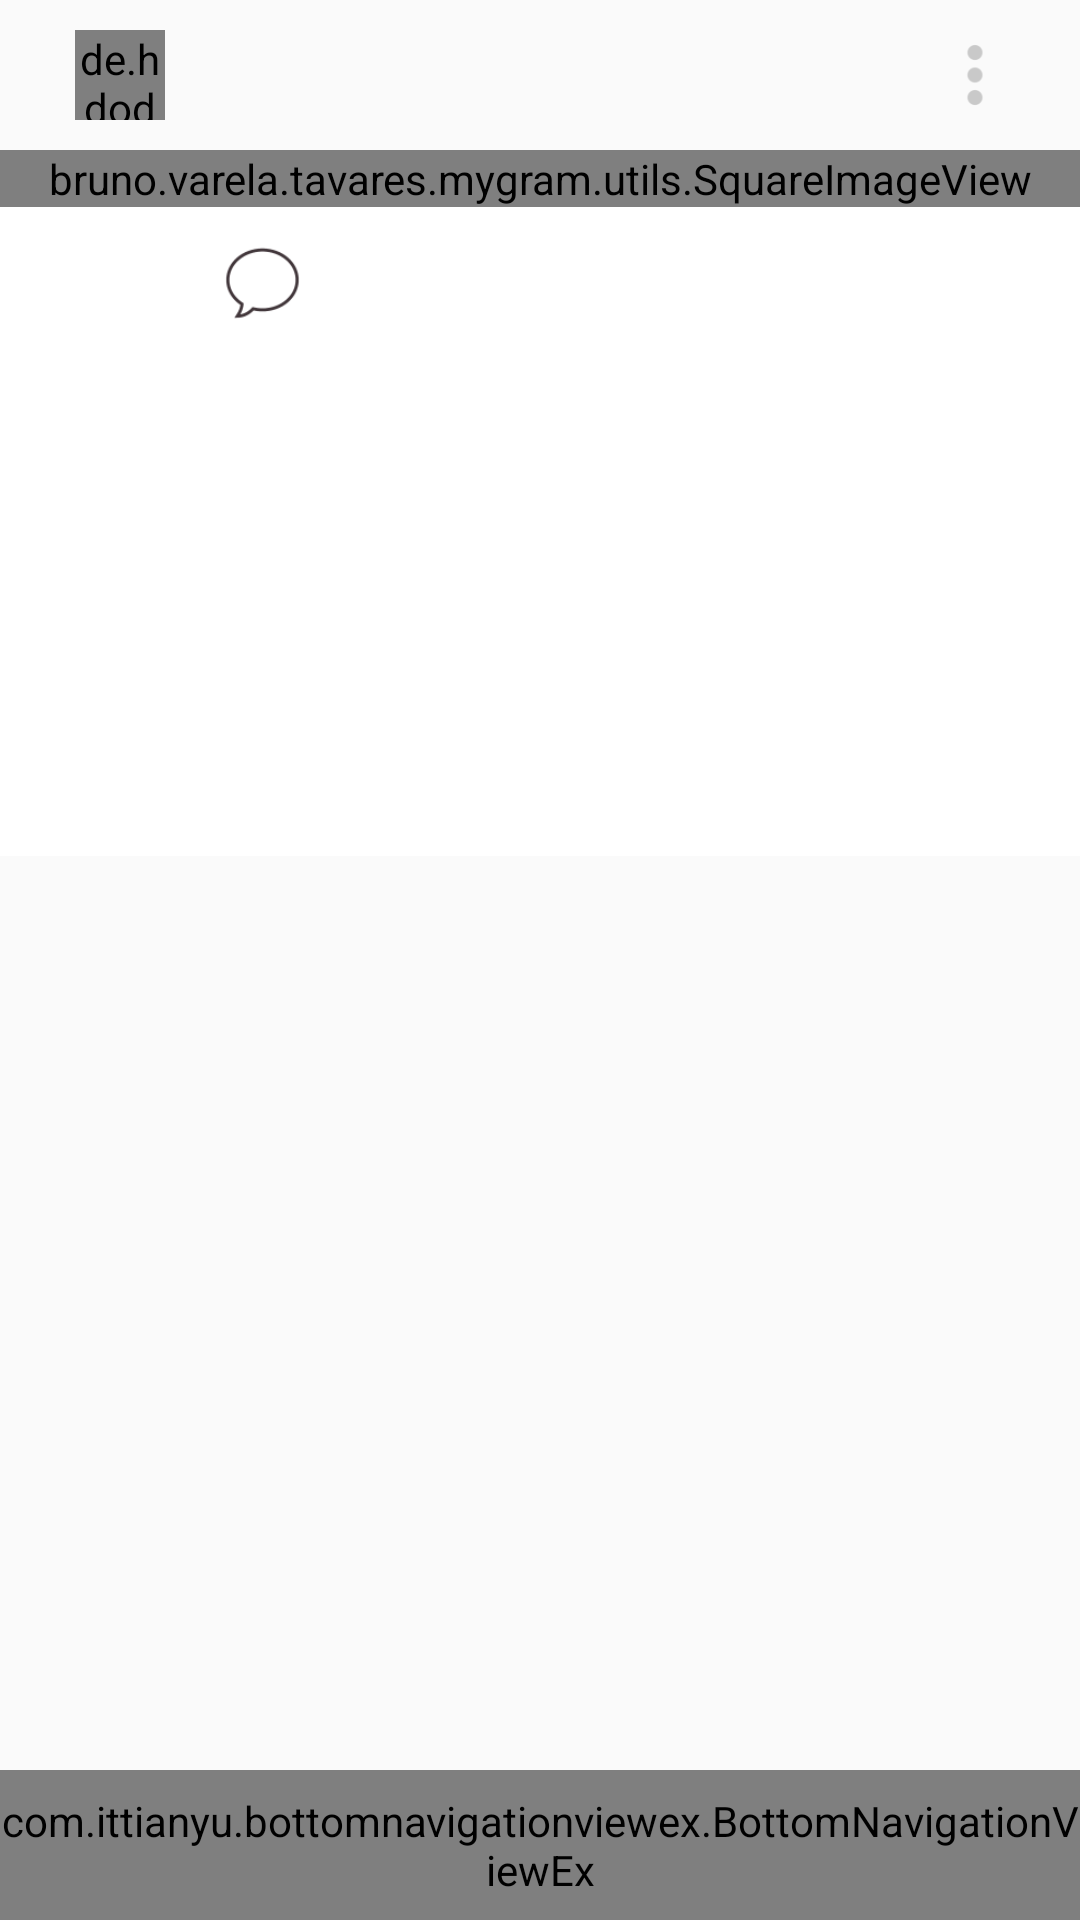

Where to tap for icons on this 1080px×1920px app screen, as (x=x, y=y):
elipses: (x=975, y=75)
speech bubble: (x=262, y=283)
